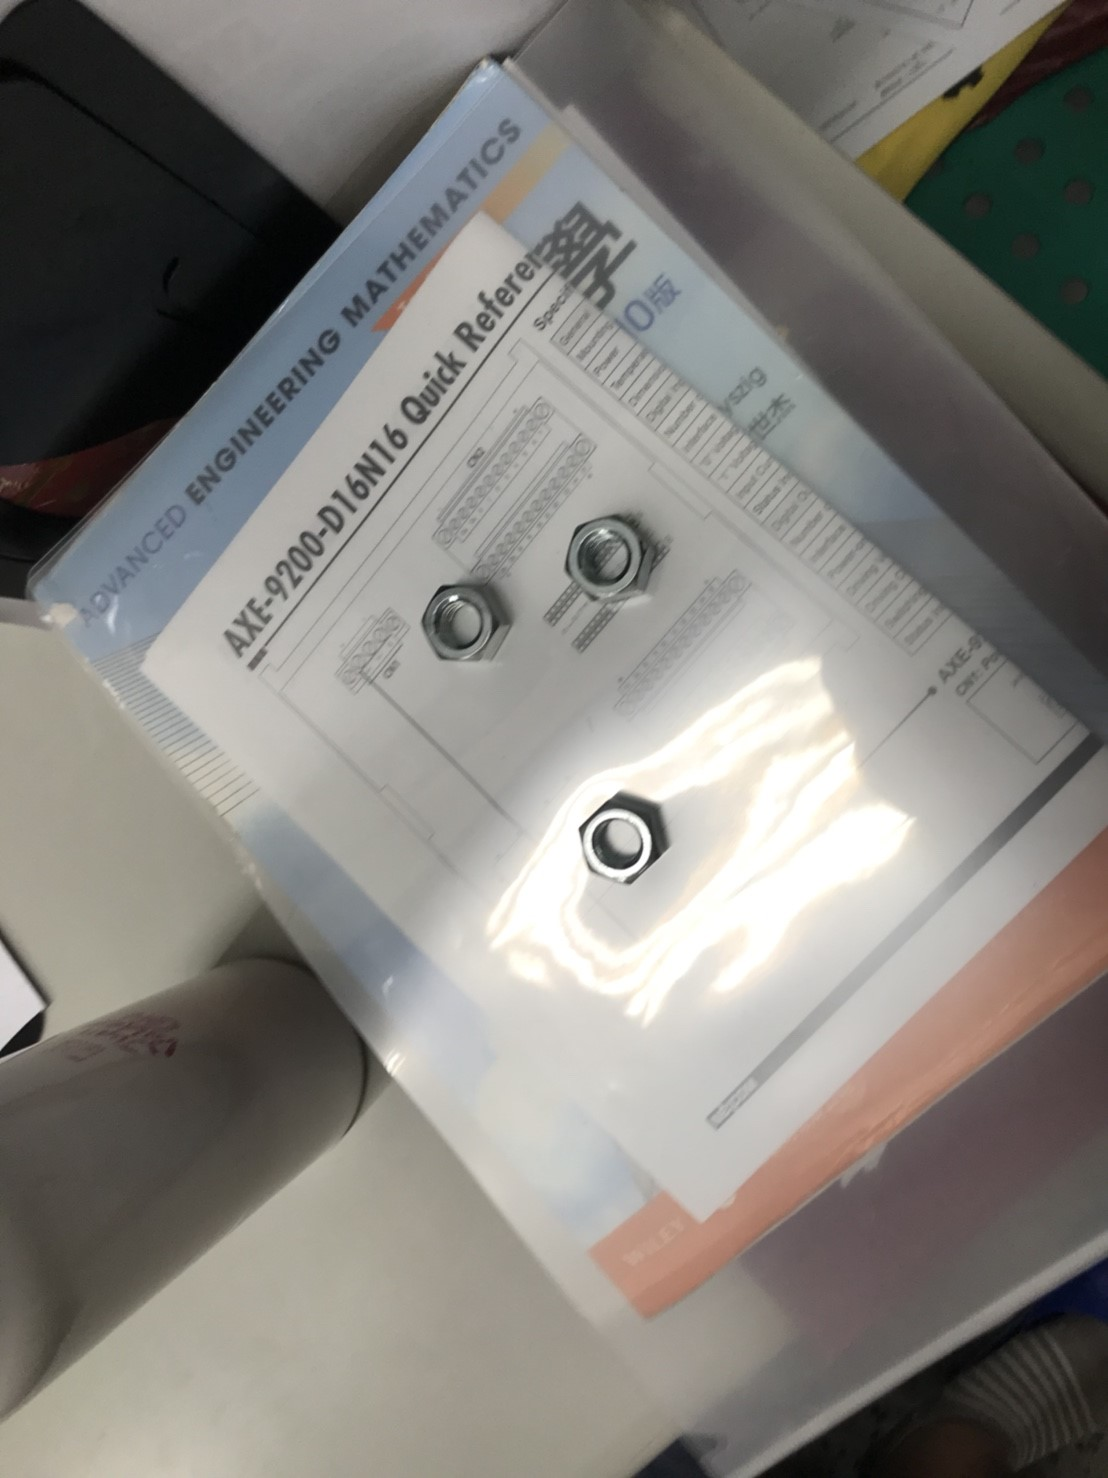nut: (411, 581, 513, 668), (564, 512, 656, 604), (583, 795, 666, 881)
